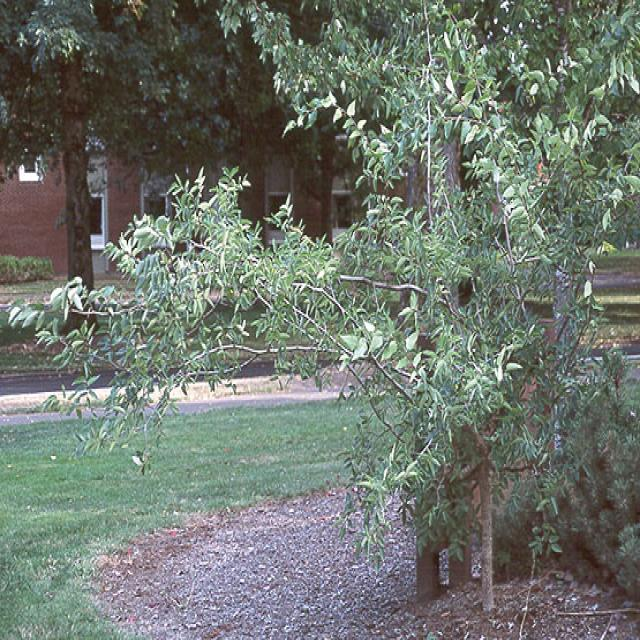Celtis reticulata: (9, 2, 623, 640)
